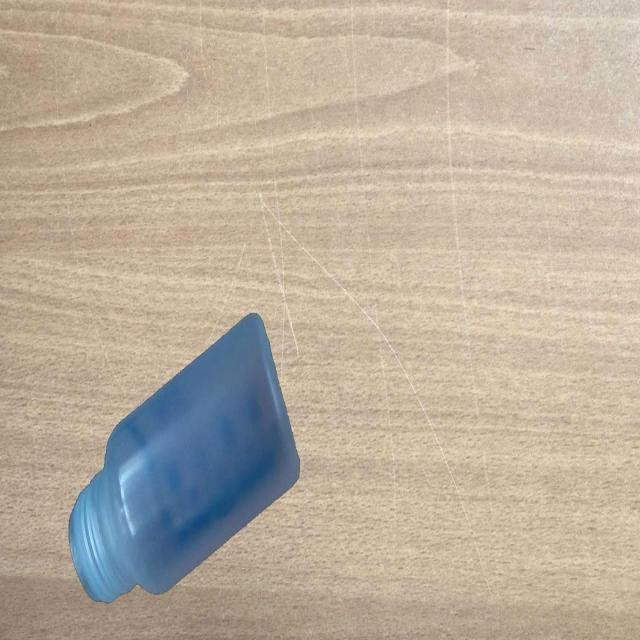bottle: (70, 311, 300, 605)
